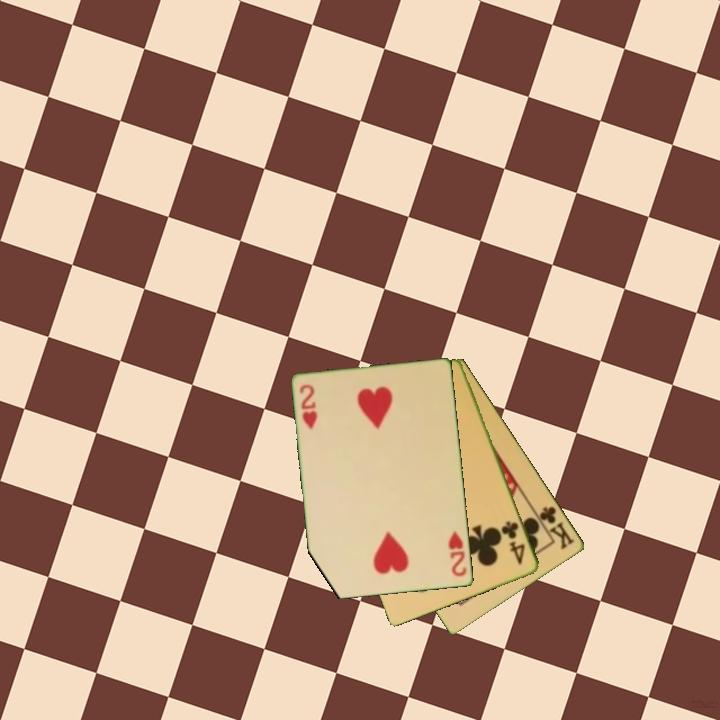2h: (445, 528, 470, 580), (296, 381, 321, 433)
4c: (498, 517, 528, 568)
Kc: (532, 503, 578, 553)
